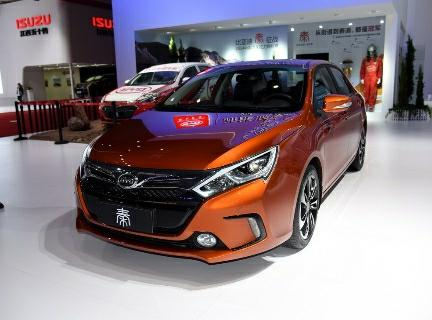car: (70, 62, 371, 268)
